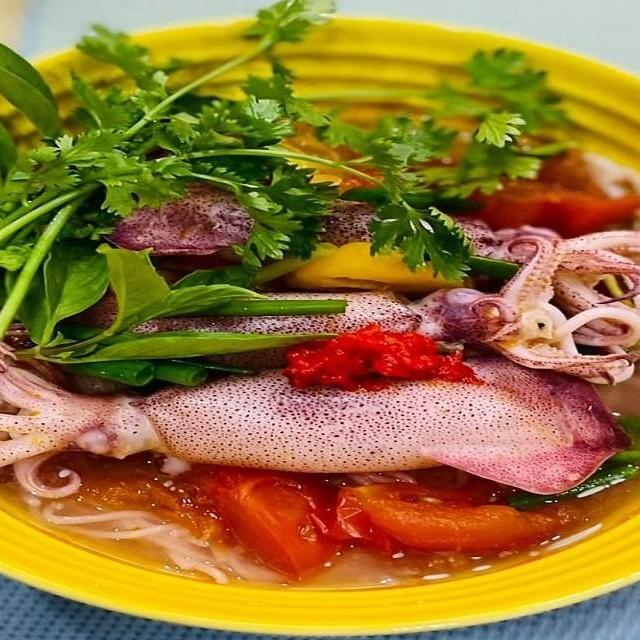bun: (25, 493, 286, 590)
muc: (84, 166, 640, 372), (0, 340, 637, 503), (0, 229, 640, 389)
